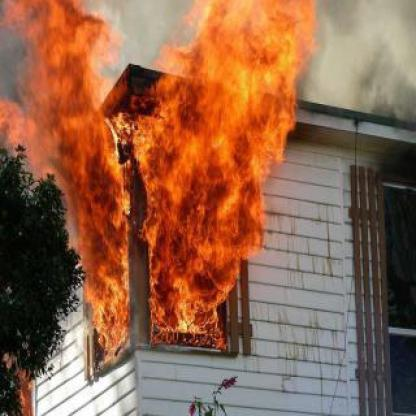Fire: (1, 1, 303, 361)
Smoke: (313, 0, 415, 126)
